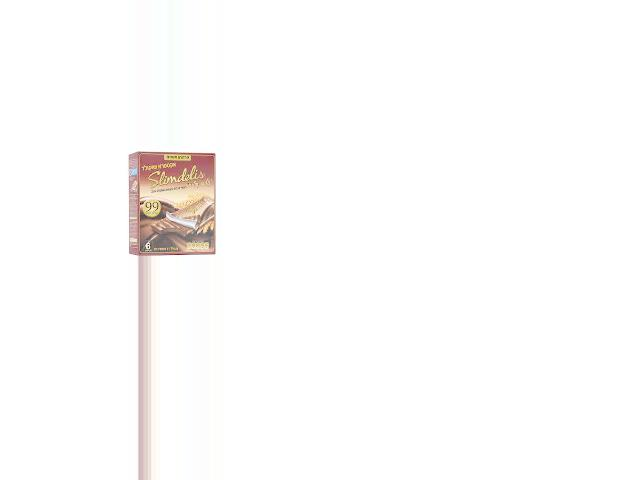chocolate: (123, 150, 225, 256)
